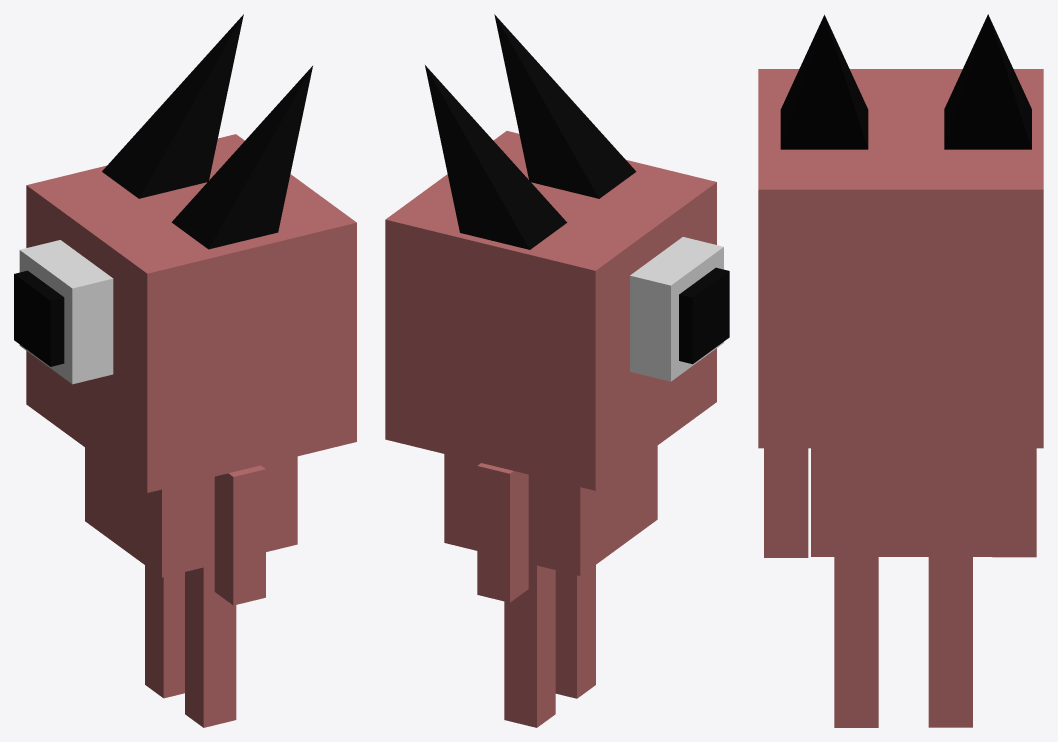
File: enemy.fbx
The picture shows the model from 3 angles, left to right: view 1: azimuth 30°, elevation 25°; view 2: azimuth 150°, elevation 25°; view 3: azimuth 270°, elevation 25°; orthographic projection. The views are drawn at different scales.
Parts seen in each view (by area): view 1: pCube1, polySurface1, pCube2, pCube9, pCube3, pCube6, pCube4, pCube10; view 2: pCube1, polySurface1, pCube2, pCube9, pCube4, pCube5, pCube3, pCube10; view 3: pCube1, pCube2, polySurface1, pCube3, pCube4, pCube5, pCube6.
Boxes of the visible parts, x1,y1,x2,y2 form: pCube1: (26, 134, 356, 492); polySurface1: (102, 14, 312, 249); pCube2: (85, 447, 297, 577); pCube9: (19, 240, 113, 384); pCube3: (185, 565, 236, 727); pCube6: (214, 465, 265, 605); pCube4: (145, 565, 184, 698); pCube10: (14, 270, 64, 366); pCube1: (385, 131, 716, 490); polySurface1: (425, 14, 636, 249); pCube2: (444, 446, 657, 575); pCube9: (630, 237, 723, 381); pCube4: (504, 563, 555, 727); pCube5: (477, 463, 528, 602); pCube3: (555, 565, 595, 698); pCube10: (679, 267, 729, 364); pCube1: (758, 69, 1043, 448); pCube2: (811, 448, 992, 556); polySurface1: (780, 14, 1031, 149); pCube3: (834, 557, 878, 727); pCube4: (928, 557, 972, 727); pCube5: (992, 448, 1036, 557); pCube6: (764, 448, 808, 557).
Size of the model in its own units: 1.95 by 4.51 by 1.55.
